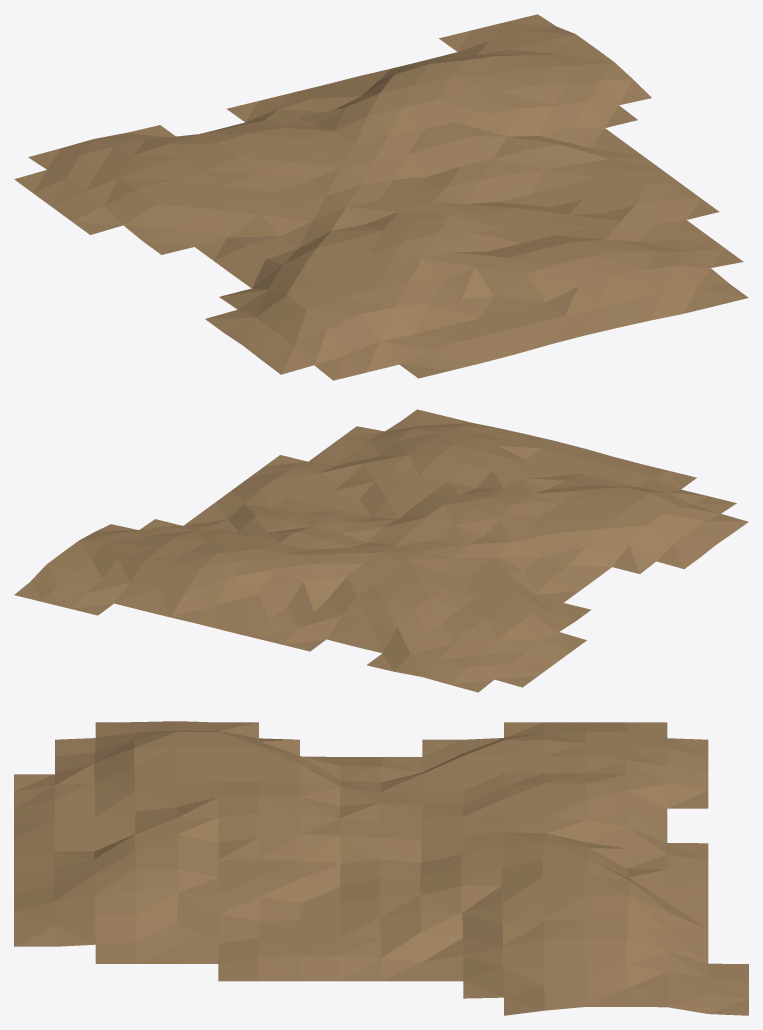
Rendered from SM_Env_GroundMounds_05.fbx.
3 views of the same model, one above another, from view 1: azimuth 30°, elevation 25°; view 2: azimuth 150°, elevation 25°; view 3: azimuth 270°, elevation 25° (orthographic). The views are drawn at different scales.
Visible parts, largest first — view 1: SM_Env_GroundMounds_05; view 2: SM_Env_GroundMounds_05; view 3: SM_Env_GroundMounds_05.
Boxes of the visible parts, x1,y1,x2,y2 form: SM_Env_GroundMounds_05: (14, 14, 748, 380); SM_Env_GroundMounds_05: (14, 409, 748, 692); SM_Env_GroundMounds_05: (14, 721, 748, 1015).
Size of the model in its own units: 0.0703 by 0.004 by 0.0744.
1 material, 1 textured.
